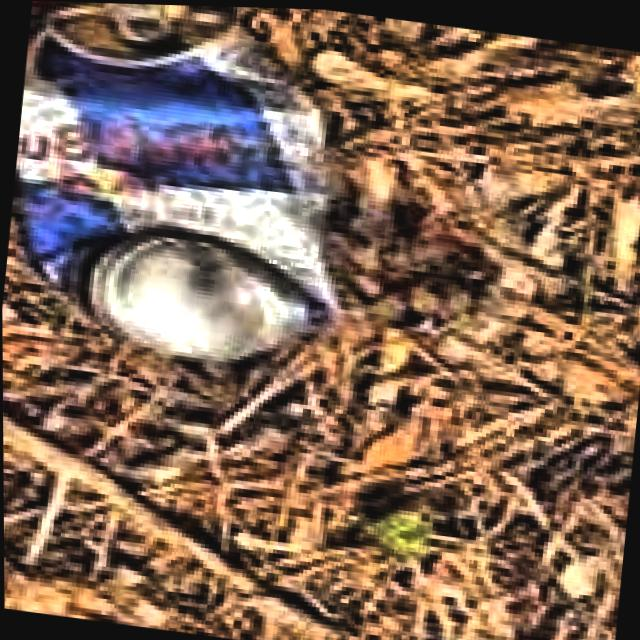metal: (15, 2, 351, 359)
